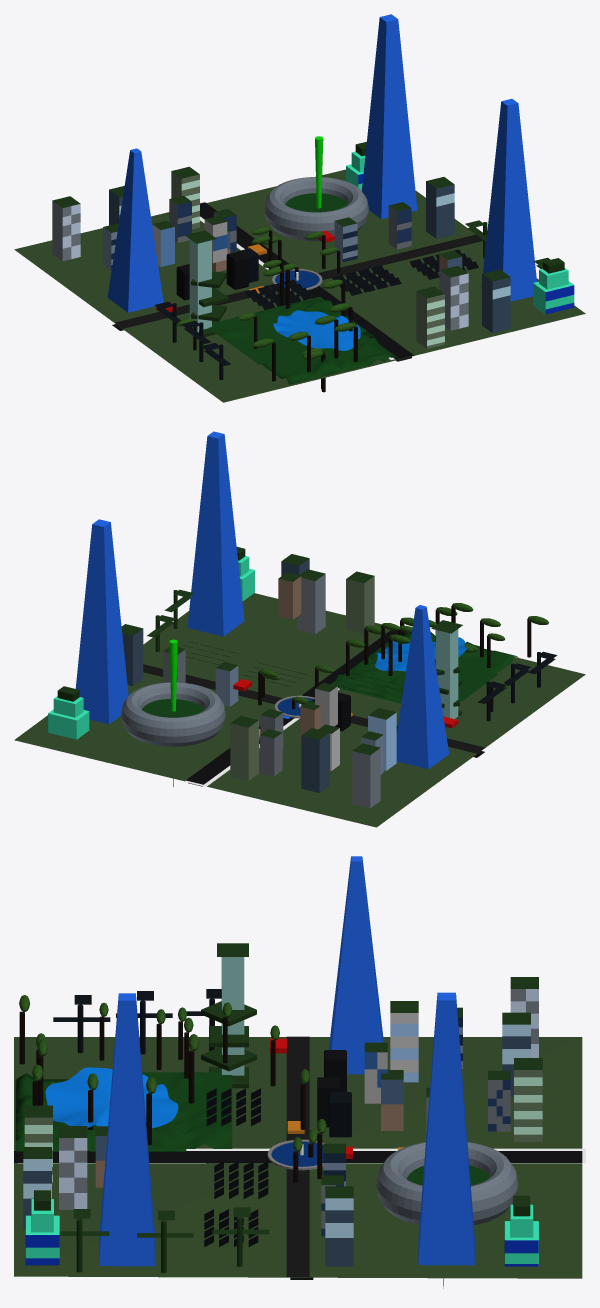
3 renders of one model, top to bottom at view 1: azimuth 30°, elevation 25°; view 2: azimuth 150°, elevation 25°; view 3: azimuth 270°, elevation 25°, orthographic. The views are drawn at different scales.
Visible parts, largest first — view 1: ground_Ground, Cube.001_bio-tower_wall, Cube_bio-tower_wall.002, Bio-Tower_bio-tower_wall.001, stadium_stad.001, park_park.002, Plane.003_park.003, Plane_road.002, lake_lake, road.3_road, Forest_building_f_wall, B3.002_B3WAll (+17 smaller); view 2: ground_Ground, Cube_bio-tower_wall.002, Cube.001_bio-tower_wall, Bio-Tower_bio-tower_wall.001, stadium_stad.001, park_park.002, Forest_building_f_wall, B4_B4Wall.001, B3_B3WAll.001, B2_B2_wall.001, road.3_road, B4.001_B4Wall (+15 smaller); view 3: ground_Ground, Cube.001_bio-tower_wall, Cube_bio-tower_wall.002, Bio-Tower_bio-tower_wall.001, stadium_stad.001, park_park.002, Plane_road.002, lake_lake, road.3_road, Forest_building_f_wall, Plane.003_park.003, Plane.001_Solar_pannel.001 (+38 smaller).
Boxes of the visible parts, x1,y1,x2,y2 form: ground_Ground: (14,169,585,402); Cube.001_bio-tower_wall: (362,14,417,218); Cube_bio-tower_wall.002: (481,98,536,301); Bio-Tower_bio-tower_wall.001: (107,148,163,312); stadium_stad.001: (264,177,368,241); park_park.002: (208,297,374,364); Plane.003_park.003: (261,335,397,384); Plane_road.002: (115,234,482,328); lake_lake: (273,310,360,350); road.3_road: (200,202,413,359); Forest_building_f_wall: (189,239,211,332); B3.002_B3WAll: (482,274,510,333); ground_Ground: (14,593,585,827); Cube_bio-tower_wall.002: (187,431,290,718); Cube.001_bio-tower_wall: (75,519,128,724); Bio-Tower_bio-tower_wall.001: (396,605,449,769); stadium_stad.001: (121,682,225,746); park_park.002: (331,642,498,703); Forest_building_f_wall: (436,629,458,719); B4_B4Wall.001: (230,720,258,780); B3_B3WAll.001: (301,732,329,792); B2_B2_wall.001: (352,748,380,808); road.3_road: (186,630,406,784); B4.001_B4Wall: (346,576,374,633); ground_Ground: (14,1037,582,1278); Cube.001_bio-tower_wall: (418,992,474,1265); Cube_bio-tower_wall.002: (99,993,155,1266); Bio-Tower_bio-tower_wall.001: (328,856,383,1074); stadium_stad.001: (376,1142,518,1225); park_park.002: (87,1072,232,1148); Plane_road.002: (286,1036,309,1276); lake_lake: (45,1067,178,1128); road.3_road: (14,1151,582,1162); Forest_building_f_wall: (221,957,244,1075); Plane.003_park.003: (15,1073,186,1151); Plane.001_Solar_pannel.001: (206,1088,260,1126).
Bounding box in the file's own units: 1004 × 671 × 1007.
